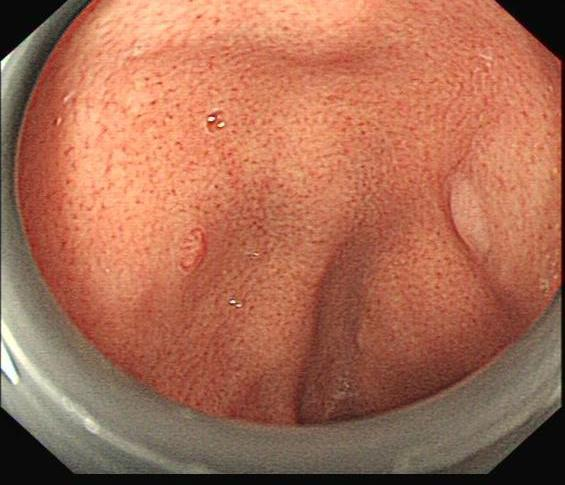Polyp: (439, 170, 501, 261), (164, 221, 218, 278)
